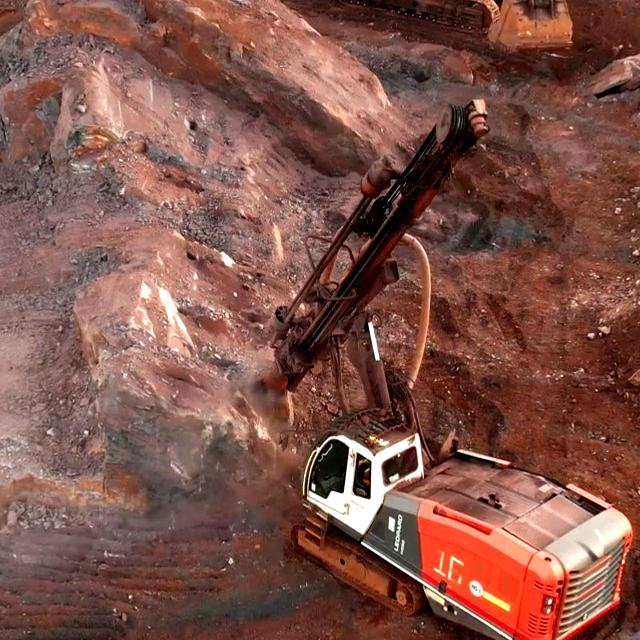Blast rig: (407, 476, 601, 620)
Excavator: (333, 0, 575, 48)
